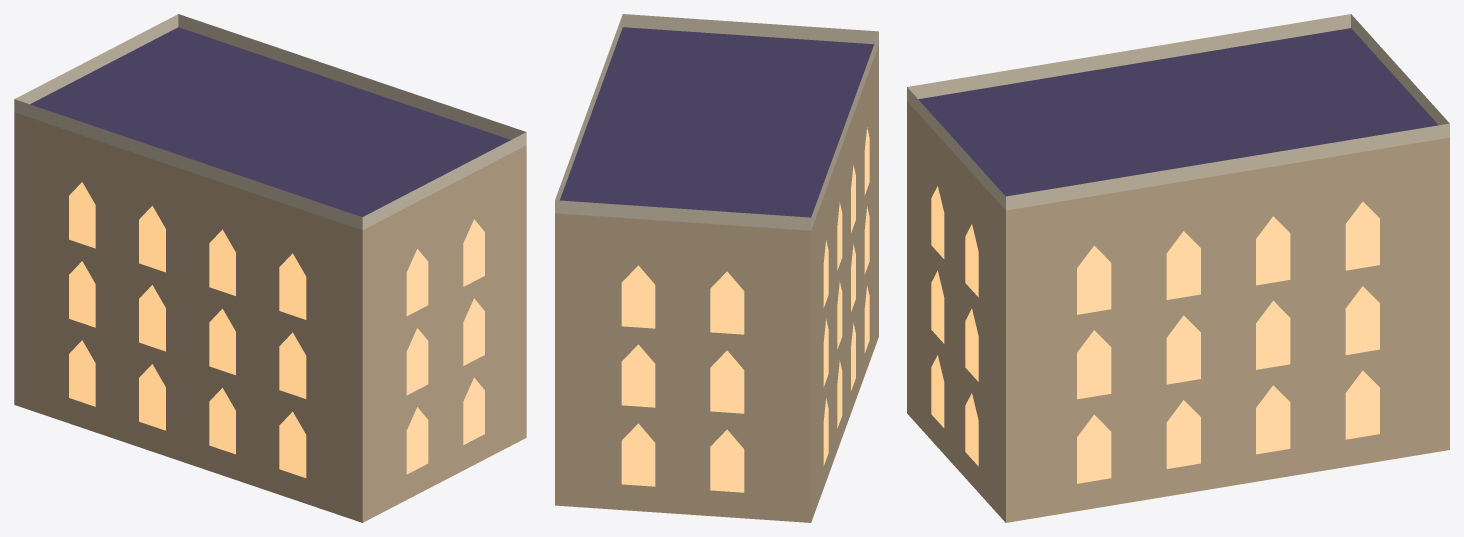
3 views of the same model, side by side, from view 1: azimuth 30°, elevation 25°; view 2: azimuth 150°, elevation 25°; view 3: azimuth 270°, elevation 25° (orthographic). The views are drawn at different scales.
Parts seen in each view (by area): view 1: campus/b-067-0; view 2: campus/b-067-0; view 3: campus/b-067-0.
Boxes of the visible parts, x1,y1,x2,y2 form: campus/b-067-0: (14, 14, 526, 522); campus/b-067-0: (555, 14, 878, 522); campus/b-067-0: (907, 14, 1449, 522).
Size of the model in its own units: 15.29 by 12.75 by 19.21.
